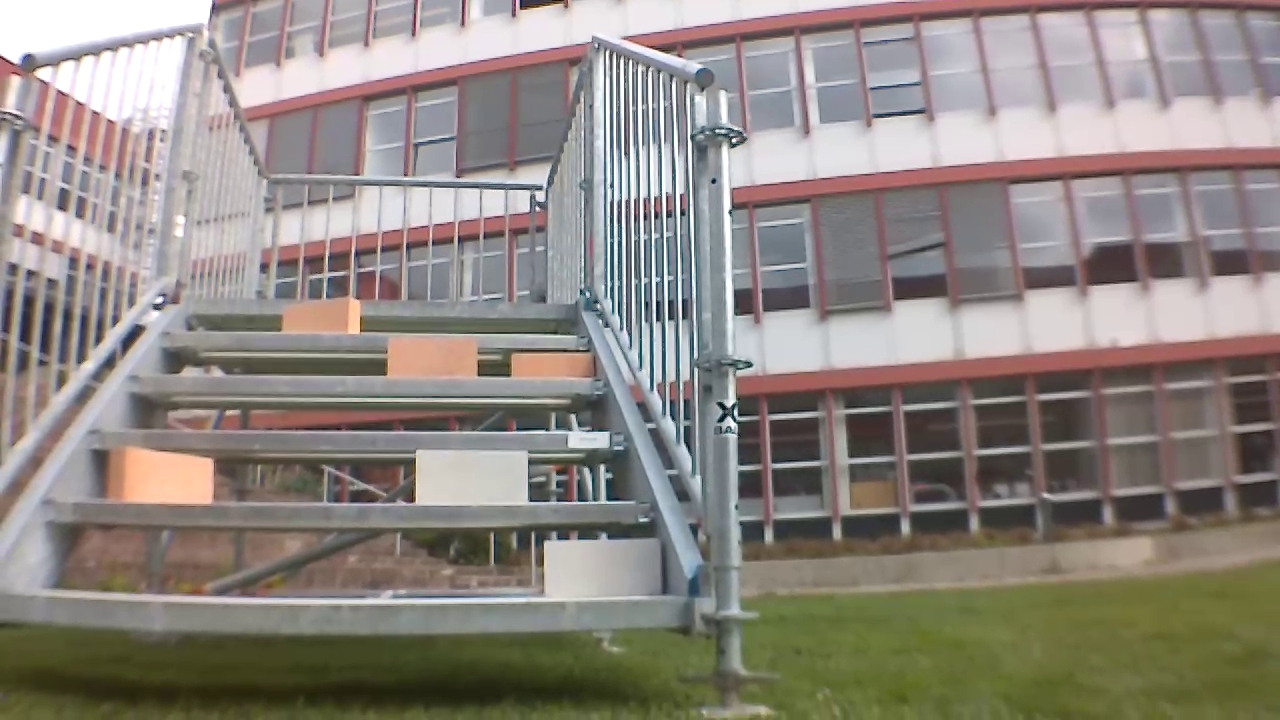brick: (545, 539, 662, 596), (416, 449, 528, 504), (108, 448, 212, 502), (388, 338, 476, 376), (282, 297, 359, 334), (511, 352, 592, 375)
edge: (3, 591, 689, 631), (46, 500, 656, 524), (86, 430, 628, 452), (130, 374, 606, 397), (189, 296, 577, 318), (162, 331, 590, 350)
stairs: (8, 25, 770, 717)
steps: (7, 288, 696, 637)
